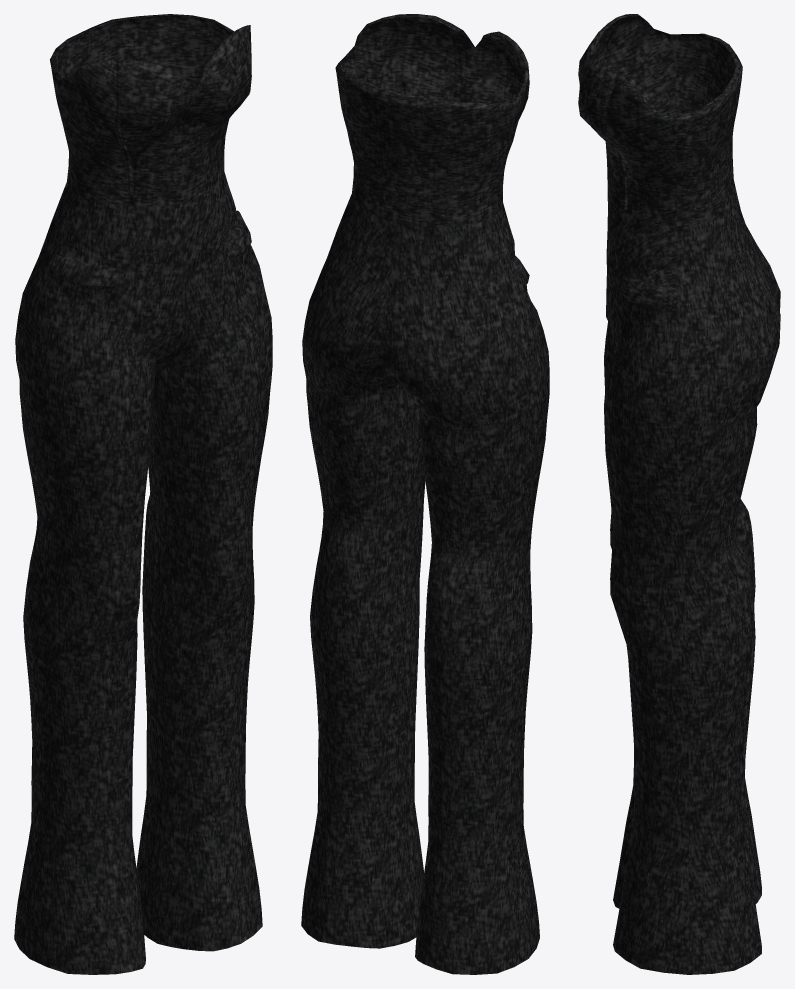
File: woman-office.glb
3 views of the same model, side by side, from view 1: azimuth 30°, elevation 25°; view 2: azimuth 150°, elevation 25°; view 3: azimuth 270°, elevation 25° (orthographic). The views are drawn at different scales.
Visible parts, largest first — view 1: Circle_0; view 2: Circle_0; view 3: Circle_0.
Part boxes in pixels (x1,y1,x2,y2): Circle_0: (14, 14, 272, 974); Circle_0: (301, 14, 549, 974); Circle_0: (578, 14, 780, 974).
Size of the model in its own units: 1.99 by 7.5 by 1.56.
Materials: 1 (1 with a texture image).
